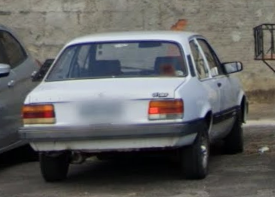car: (22, 31, 249, 179)
